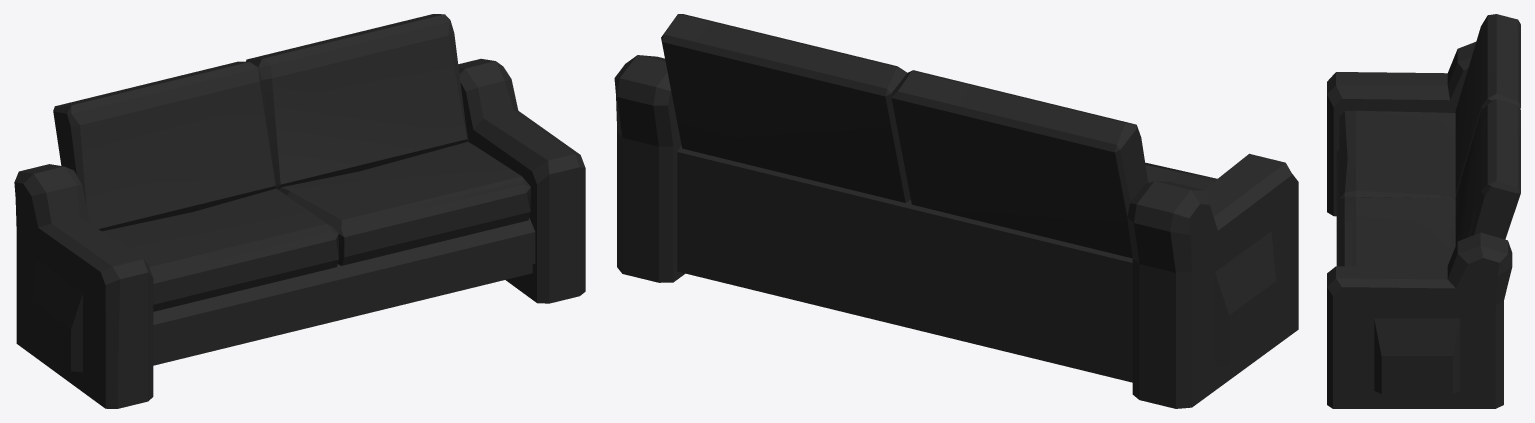
The model's file is Couch_01.fbx.
The picture shows the model from 3 angles, left to right: view 1: azimuth 30°, elevation 25°; view 2: azimuth 150°, elevation 25°; view 3: azimuth 270°, elevation 25°; orthographic projection. The views are drawn at different scales.
Parts seen in each view (by area): view 1: Couch_01; view 2: Couch_01; view 3: Couch_01.
Part boxes in pixels (bbox=[...]): Couch_01: bbox=[14, 14, 585, 408]; Couch_01: bbox=[614, 14, 1298, 408]; Couch_01: bbox=[1327, 14, 1520, 408].
Size of the model in its own units: 242 by 105 by 89.57.
